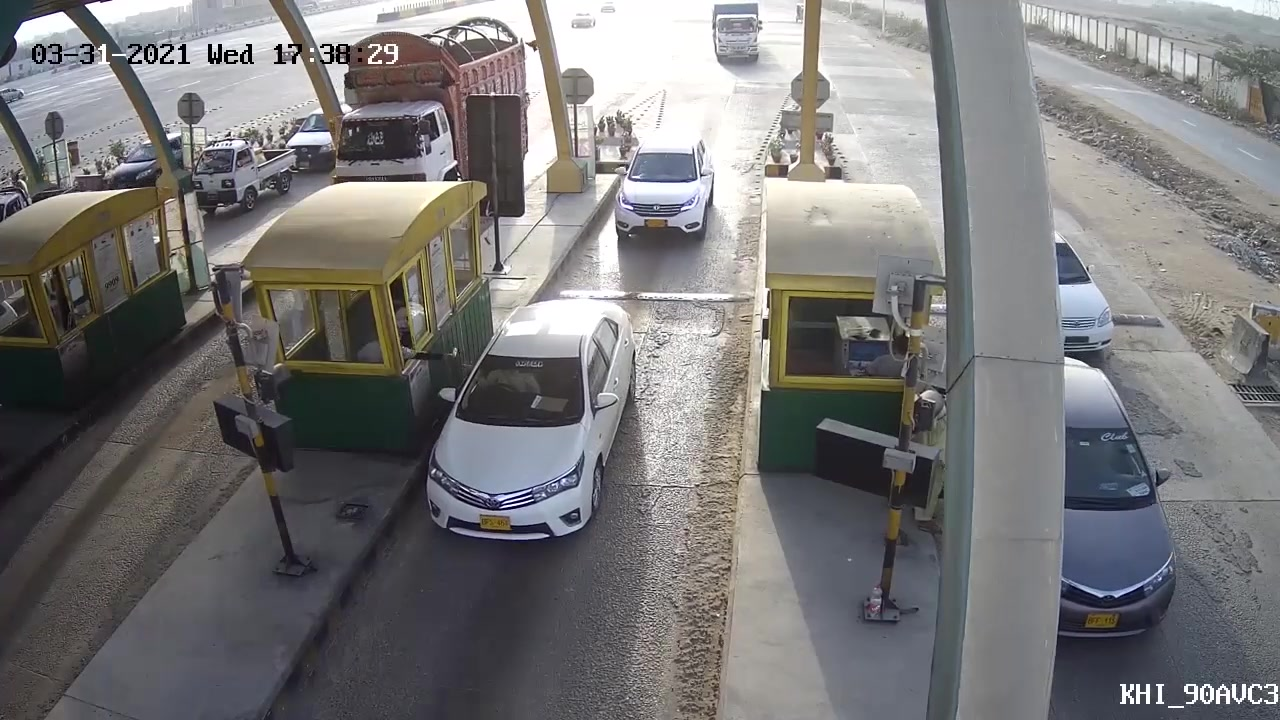F1: (429, 292, 639, 566)
